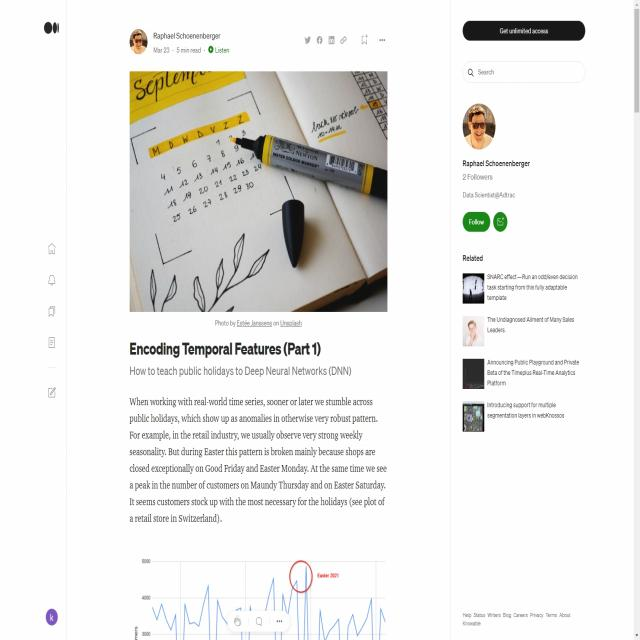search: (462, 58, 586, 86)
